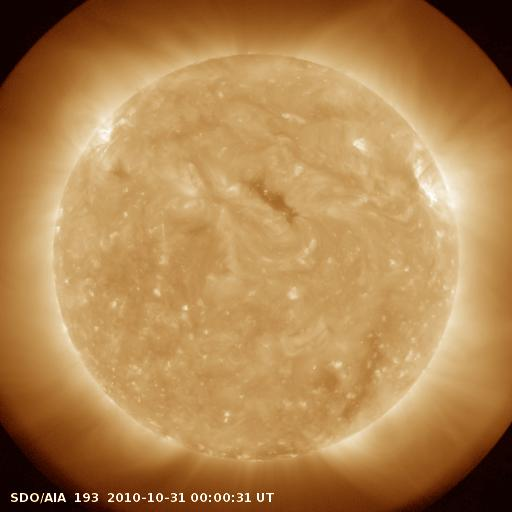coronal_hole: (307, 313, 396, 424), (241, 173, 301, 230)
